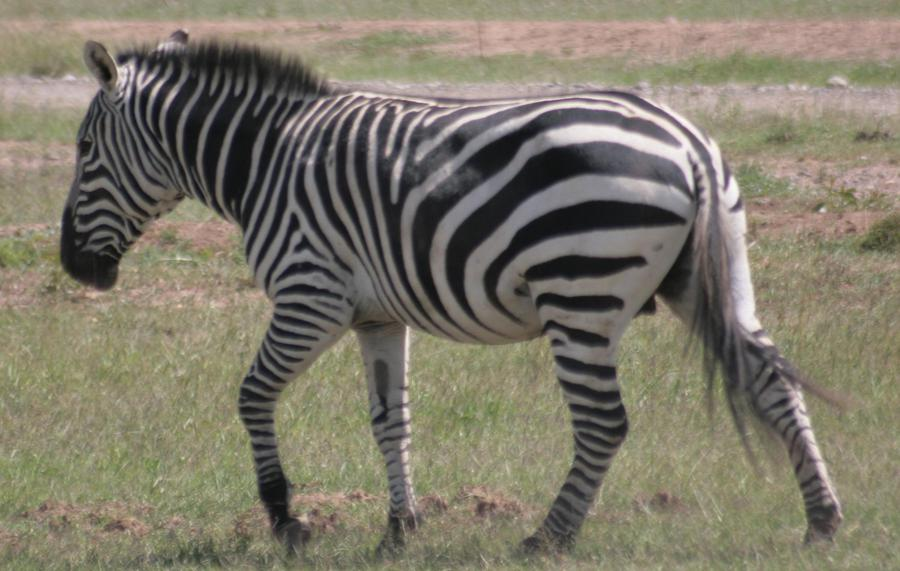zebra_plains: (237, 77, 642, 372)
